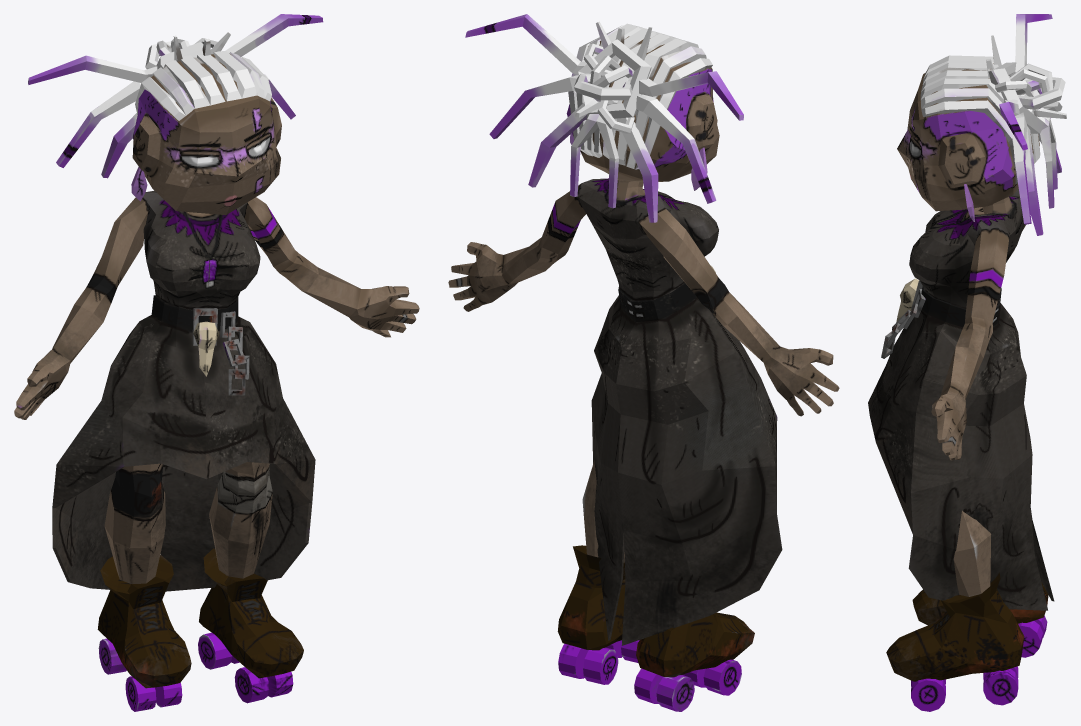
The model's file is bruja_000091.obj.
3 views of the same model, side by side, from view 1: azimuth 30°, elevation 25°; view 2: azimuth 150°, elevation 25°; view 3: azimuth 270°, elevation 25° (orthographic). The views are drawn at different scales.
Parts seen in each view (by area): view 1: Bruja_Plane.001; view 2: Bruja_Plane.001; view 3: Bruja_Plane.001.
Boxes of the visible parts, box(x1,y1,x2,y2) form: Bruja_Plane.001: box(14, 14, 419, 711); Bruja_Plane.001: box(448, 14, 839, 711); Bruja_Plane.001: box(868, 14, 1066, 711).
Bounding box in the file's own units: 10.29 × 16.43 × 4.63.
